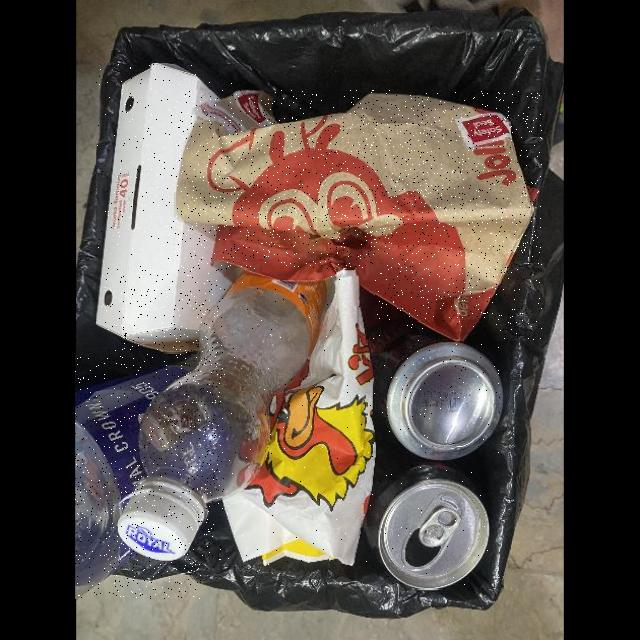metal: (362, 417, 489, 589), (368, 322, 503, 462)
paper: (176, 90, 542, 342), (224, 270, 375, 566), (96, 63, 244, 352)
plastic: (119, 270, 336, 560), (76, 354, 202, 599)
